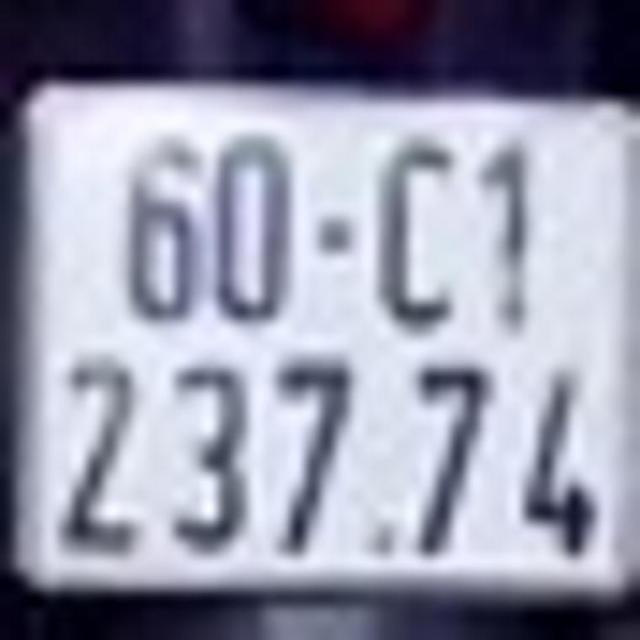0: (213, 121, 303, 337)
1: (477, 142, 534, 332)
2: (62, 348, 141, 550)
3: (167, 354, 250, 549)
4: (518, 357, 598, 558)
6: (122, 130, 206, 327)
7: (264, 352, 356, 564), (411, 354, 490, 556)
C: (372, 130, 462, 341)
